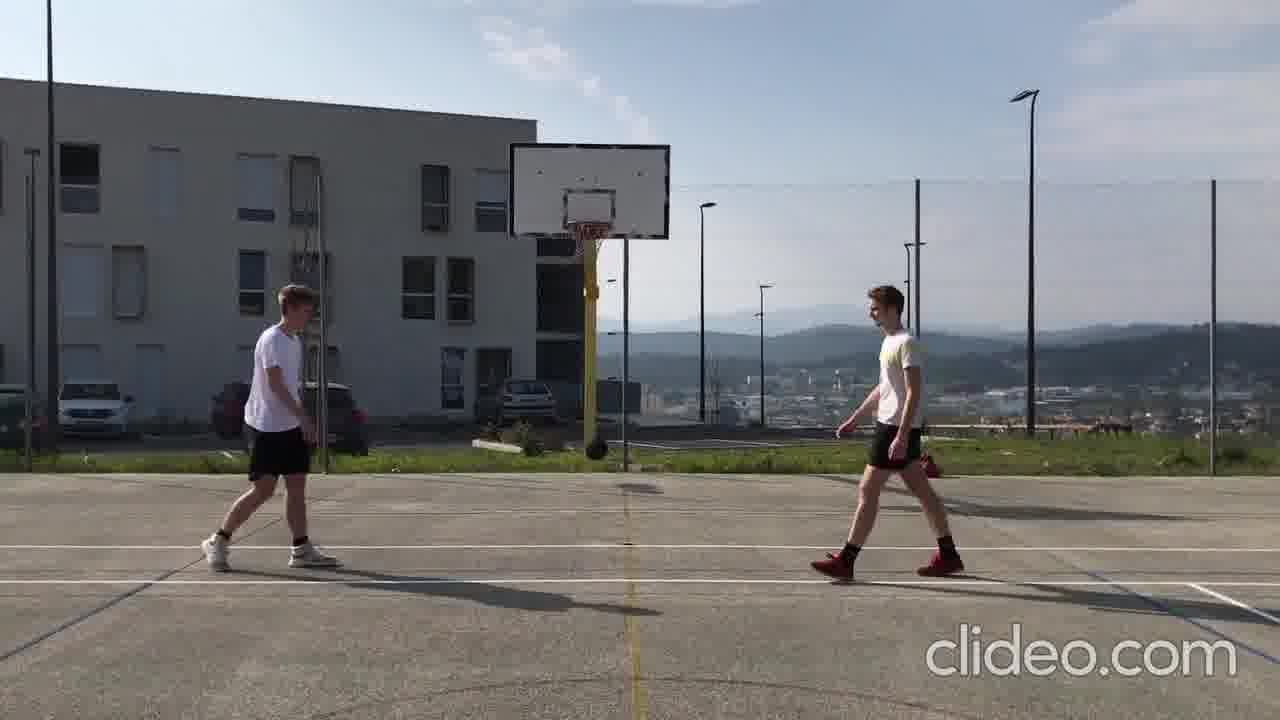jugador: (794, 274, 978, 596)
